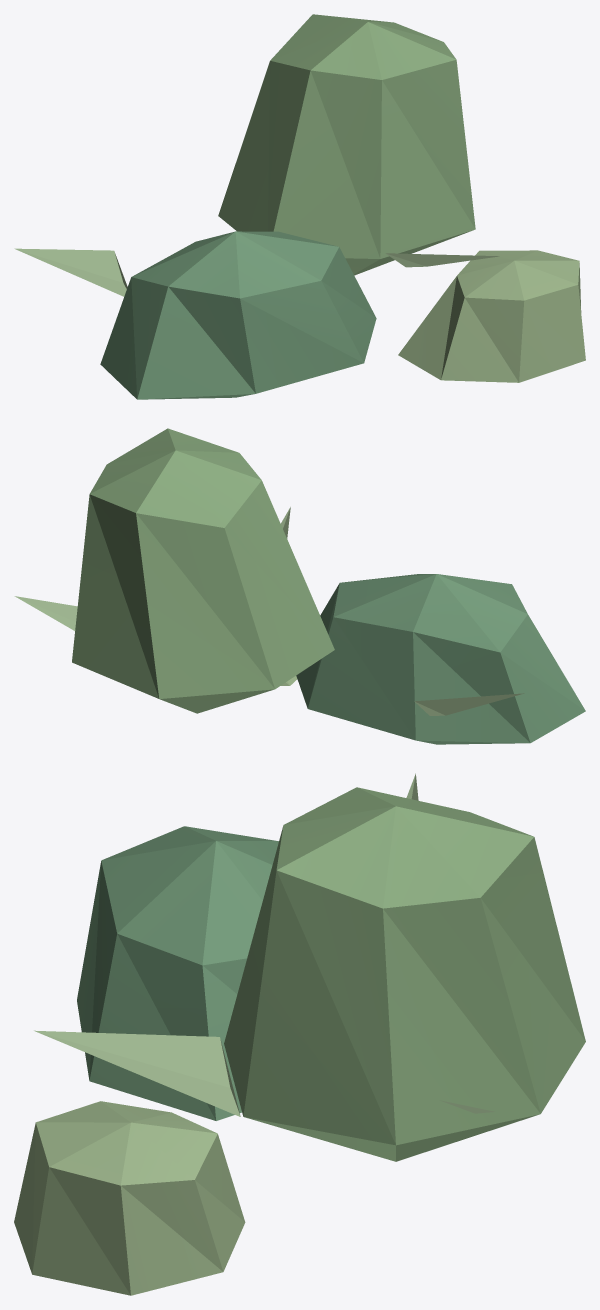
3 renders of one model, top to bottom at view 1: azimuth 30°, elevation 25°; view 2: azimuth 150°, elevation 25°; view 3: azimuth 270°, elevation 25°, orthographic. The views are drawn at different scales.
Visible parts, largest first — view 1: bush_irregular; view 2: bush_irregular; view 3: bush_irregular.
Part boxes in pixels (x1,y1,x2,y2): bush_irregular: [14, 14, 585, 399]; bush_irregular: [14, 428, 585, 744]; bush_irregular: [14, 773, 585, 1295].
Size of the model in its own units: 1.7 by 1.04 by 1.21.
